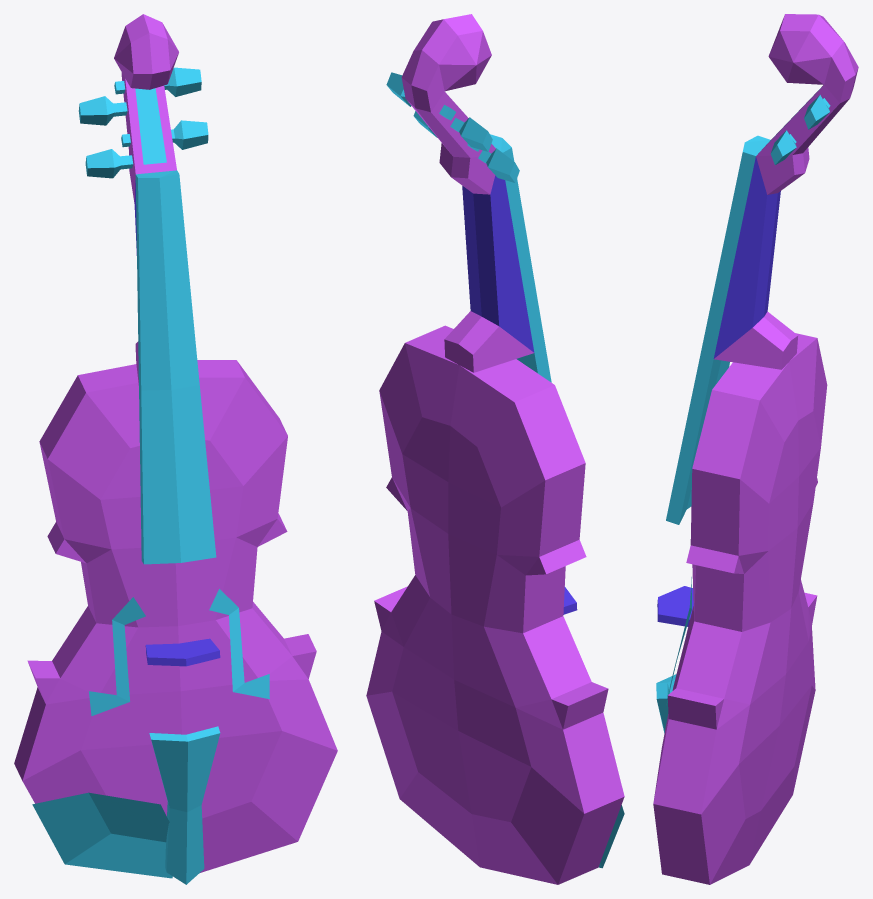
The model's file is 059_violin.fbx.
3 renders of one model, left to right at view 1: azimuth 30°, elevation 25°; view 2: azimuth 150°, elevation 25°; view 3: azimuth 270°, elevation 25°, orthographic. The views are drawn at different scales.
Parts seen in each view (by area): view 1: VIOLIN; view 2: VIOLIN; view 3: VIOLIN.
Part boxes in pixels (x1,y1,x2,y2): VIOLIN: [14, 14, 337, 884]; VIOLIN: [366, 14, 624, 884]; VIOLIN: [653, 14, 858, 884].
Size of the model in its own units: 35.84 by 102 by 22.38.
